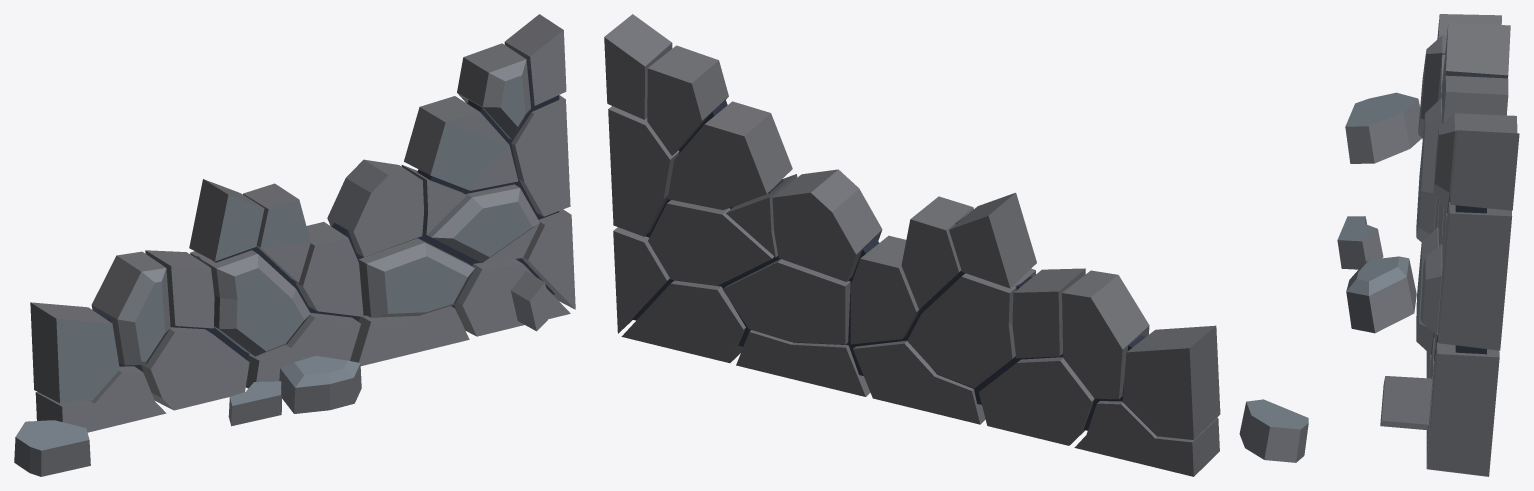
File: medieval_asset_20_broken_wall.glb
The picture shows the model from 3 angles, left to right: view 1: azimuth 30°, elevation 25°; view 2: azimuth 150°, elevation 25°; view 3: azimuth 270°, elevation 25°; orthographic projection. The views are drawn at different scales.
Parts seen in each view (by area): view 1: Object_2; view 2: Object_2; view 3: Object_2.
Boxes of the visible parts, x1,y1,x2,y2 form: Object_2: [14, 14, 575, 476]; Object_2: [604, 14, 1308, 476]; Object_2: [1337, 14, 1519, 476].
Bounding box in the file's own units: 5.85 × 2.77 × 1.29.
Materials: 1 (1 with a texture image).
